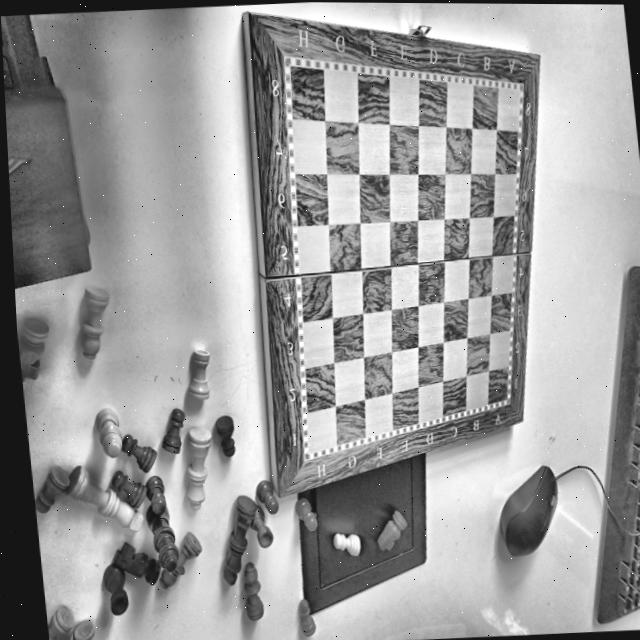chessboard: (247, 10, 541, 495)
